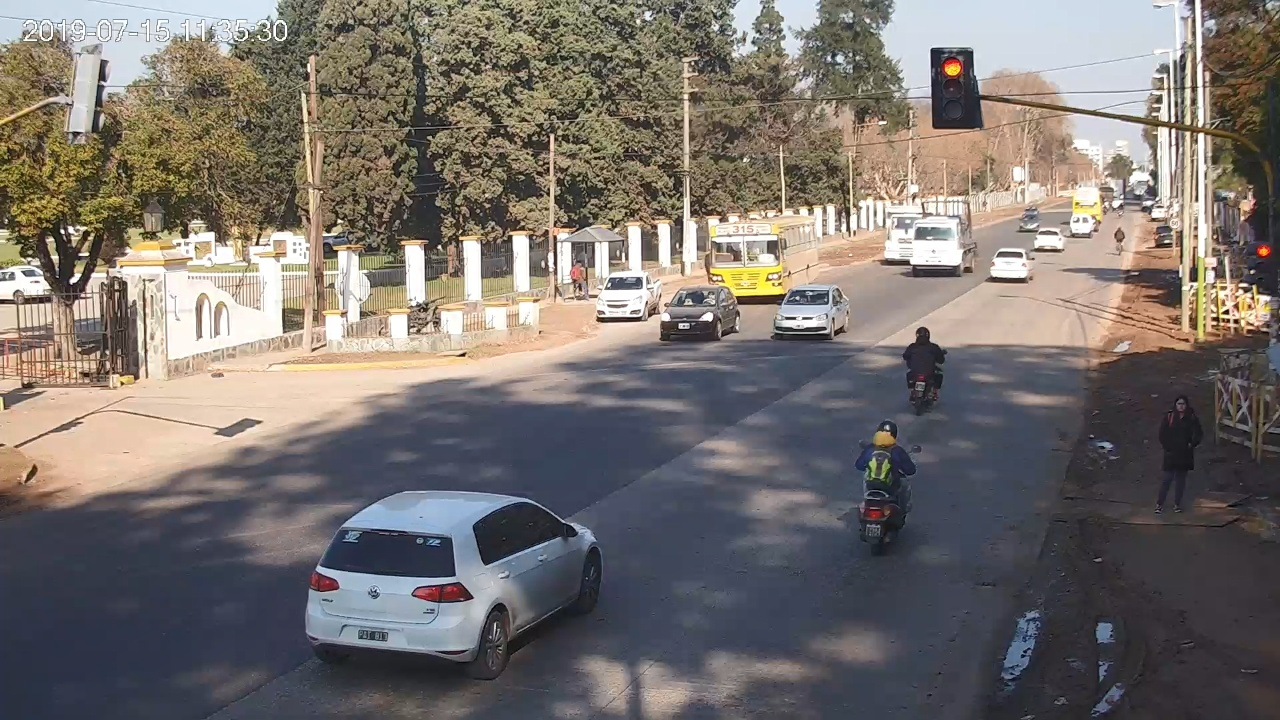car: (305, 491, 604, 680), (990, 248, 1035, 283)
front car: (660, 286, 740, 340), (773, 285, 850, 340)
motorcycle: (854, 442, 922, 555), (902, 346, 948, 415)
traffic light: (941, 55, 964, 120), (1256, 243, 1270, 286)
